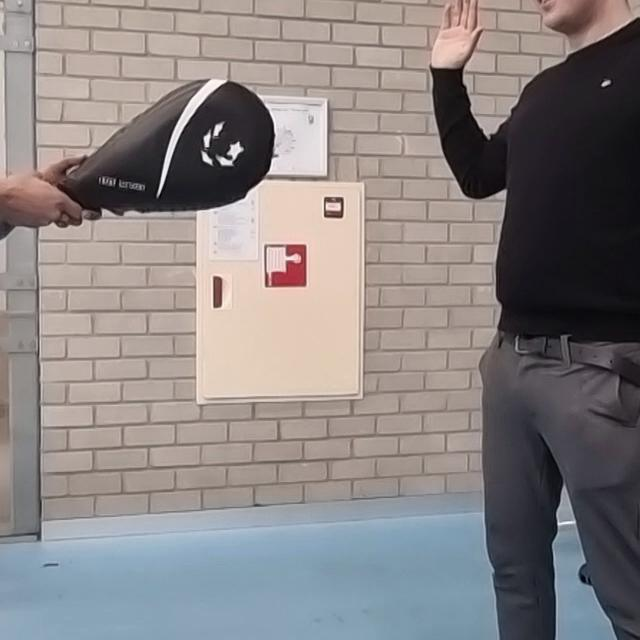paddle: (61, 74, 273, 214)
